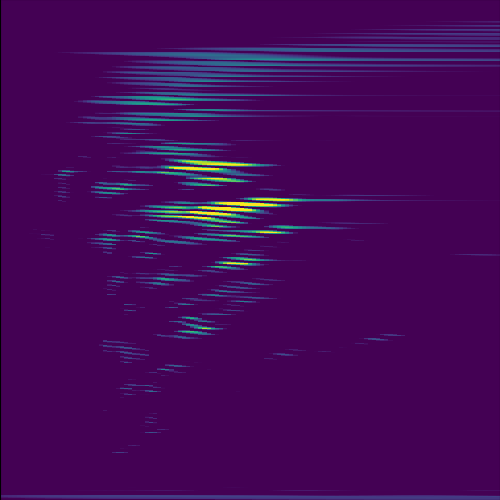semblance: (144, 192, 307, 228), (138, 156, 280, 190)
